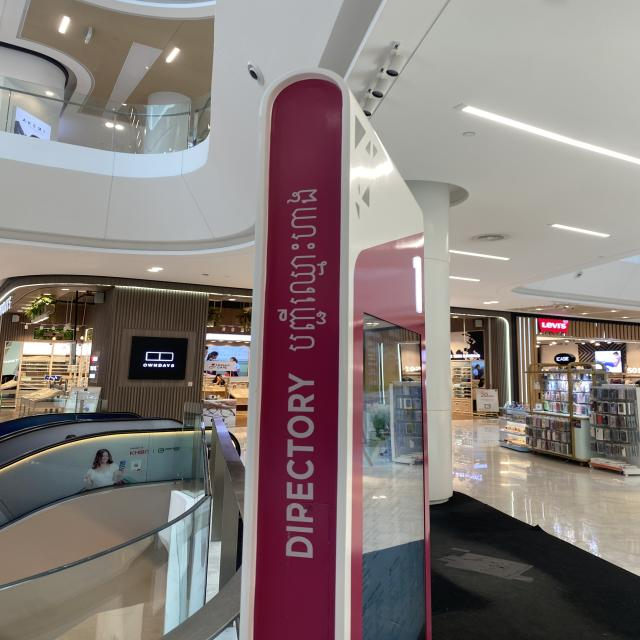Yolov11kh: (276, 183, 331, 358)
